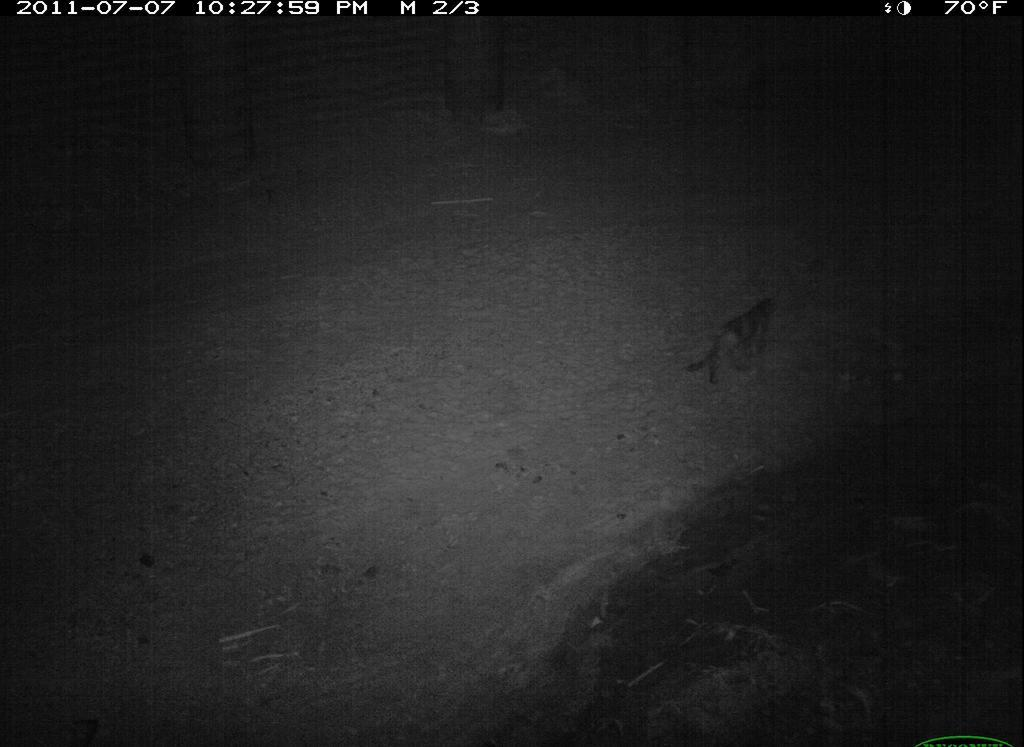cat: (671, 271, 792, 450)
